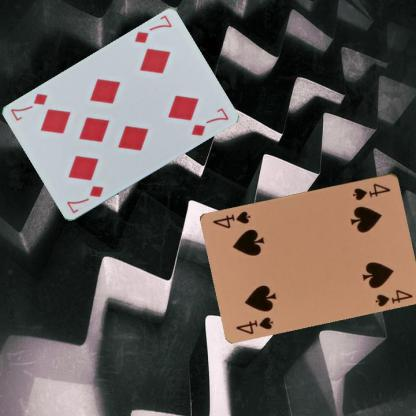4s: (350, 180, 392, 202), (233, 313, 275, 335)
7d: (132, 13, 173, 45), (64, 183, 104, 215)
